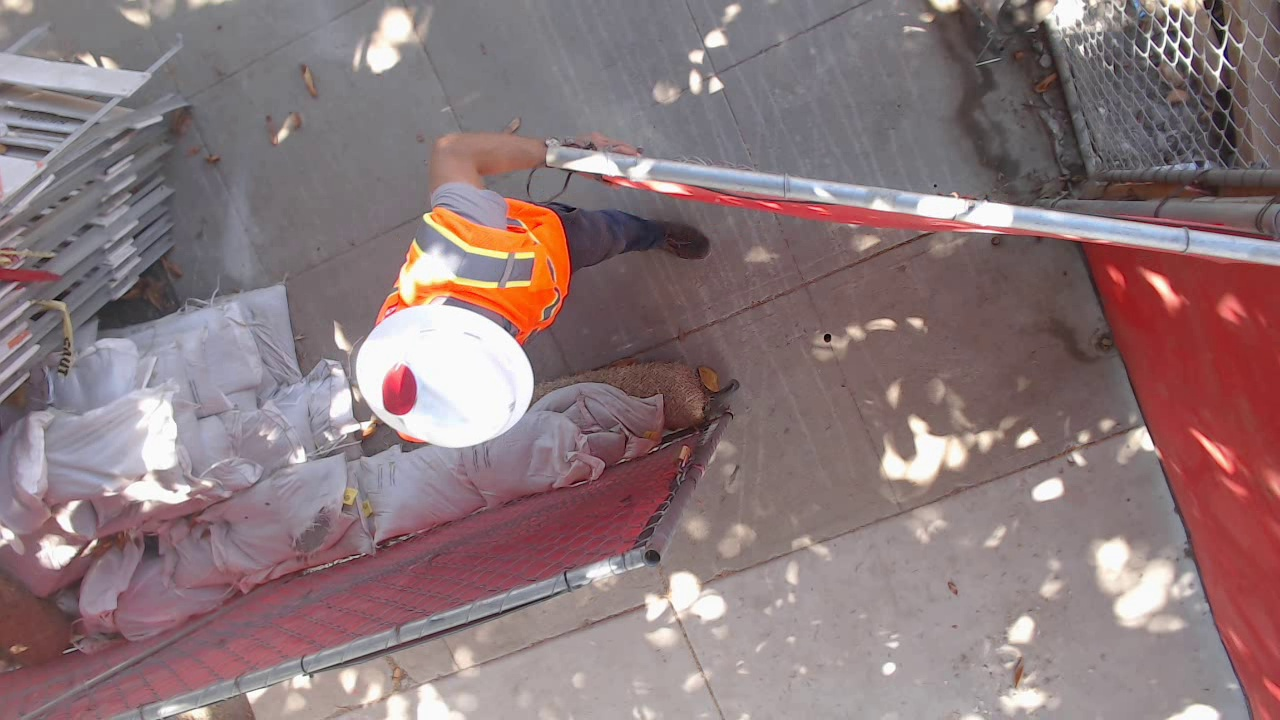hardhat: (469, 279, 644, 454)
person: (465, 191, 729, 472)
safetyvest: (562, 224, 737, 473)
yellow: (562, 299, 617, 341)
